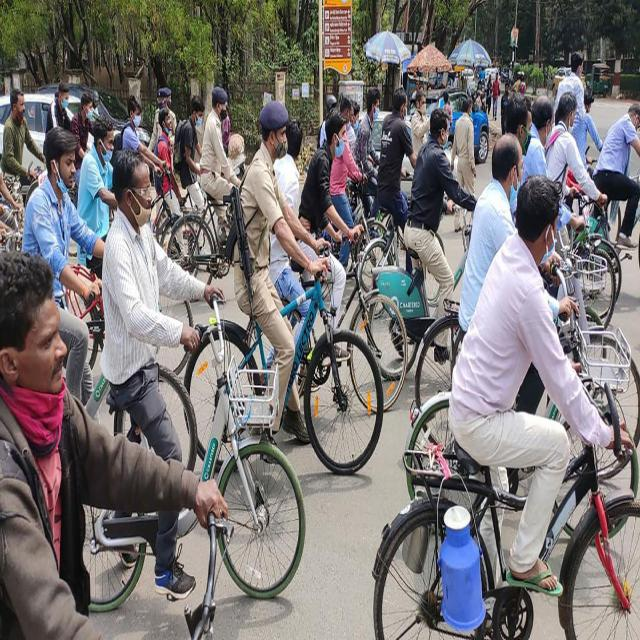bicycle: (374, 179, 640, 638), (101, 152, 305, 598), (224, 100, 384, 473), (299, 110, 408, 408), (168, 88, 240, 282)
